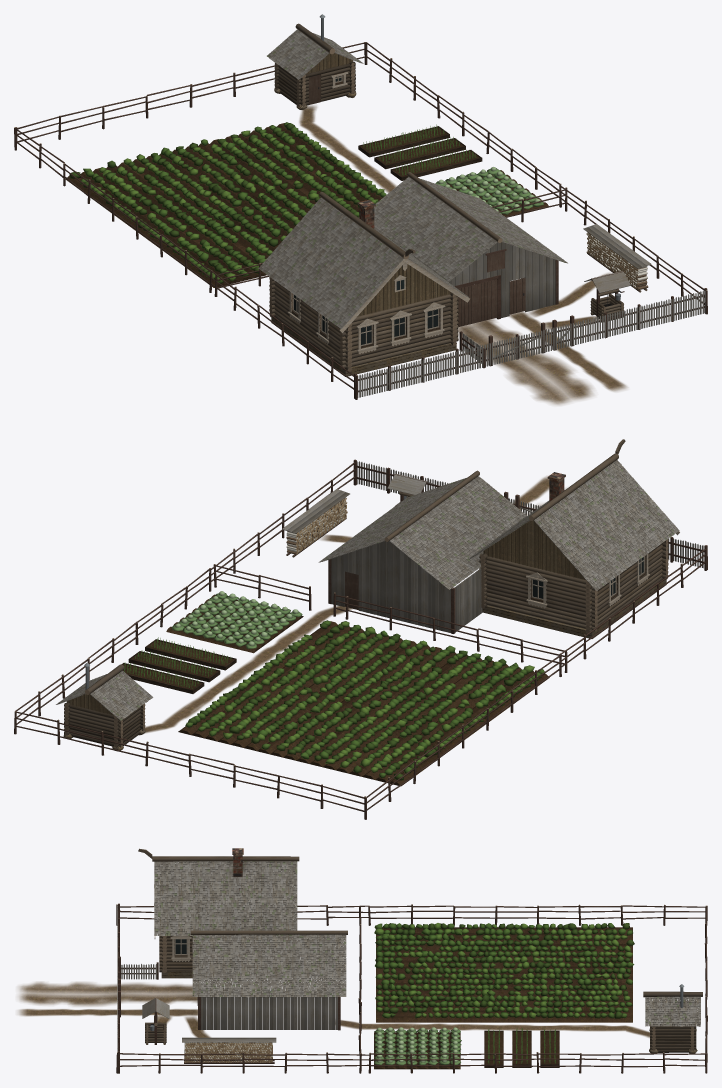
File: yard_middle.glb
The picture shows the model from 3 angles, top to bottom: view 1: azimuth 30°, elevation 25°; view 2: azimuth 150°, elevation 25°; view 3: azimuth 270°, elevation 25°; orthographic projection. The views are drawn at different scales.
Visible parts, largest first — view 1: yard_middle; view 2: yard_middle; view 3: yard_middle.
Boxes of the visible parts, <box> form: yard_middle: <box>14,14,707,405</box>; yard_middle: <box>14,439,707,819</box>; yard_middle: <box>18,848,707,1073</box>.
Bounding box in the file's own units: 20.19 × 6.84 × 39.71.
43 materials, 29 textured.
